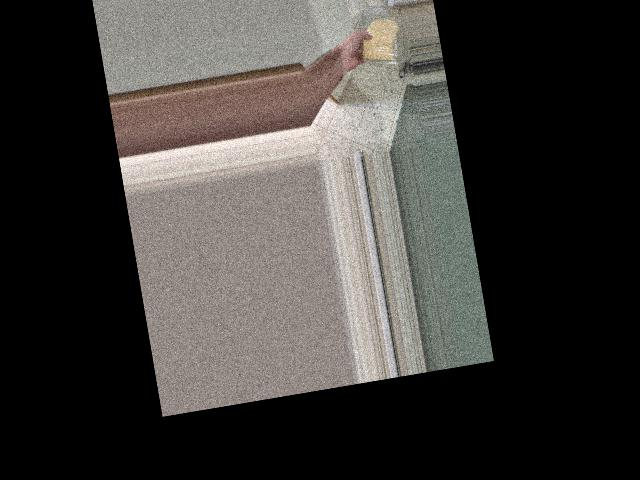cheese: (355, 13, 407, 69)
